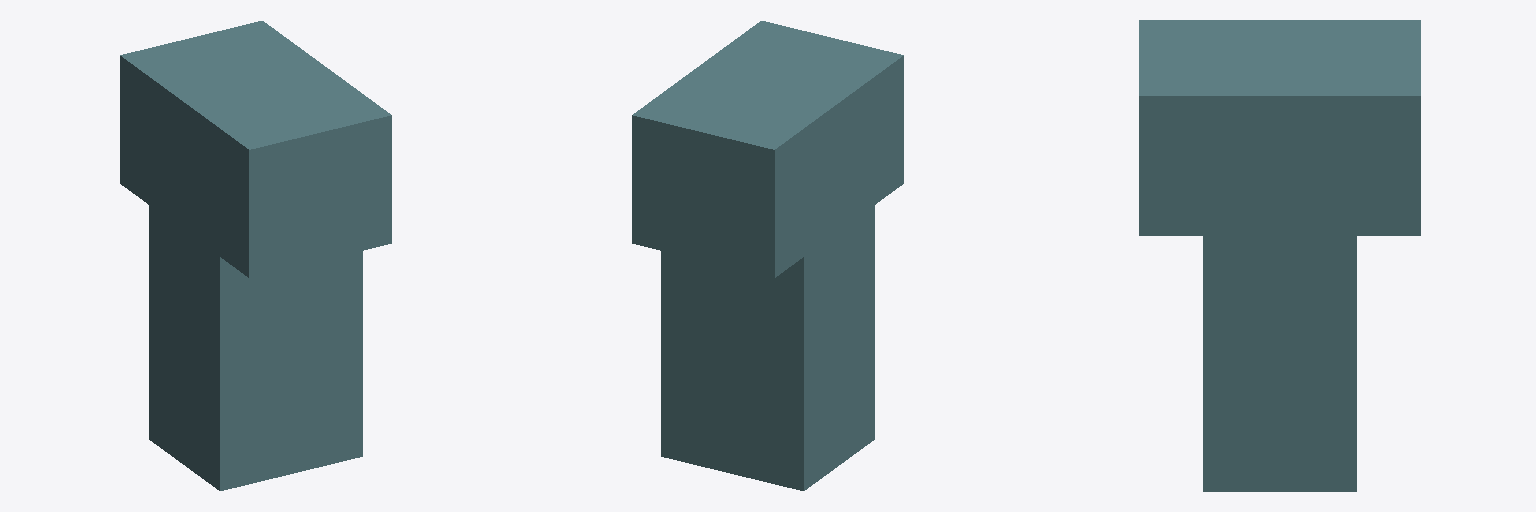
URDF robot description (box_table):
<?xml version="1.0" ?>
<robot name="box_table">
  <link name="base_link" />

    <link name="ground">
    <visual>
      <geometry>
        <mesh filename="package://mc_env_description/meshes/box_table/ground.stl" />
      </geometry>
      <material name="Ground">
        <color rgba="0.5367116332054138 0.7197052240371704 0.7483876347541809 1" />
      </material>
    </visual>

  </link>
  <joint name="ground" type="fixed">
    <parent link="base_link" />
    <child link="ground" />
    <origin rpy="0.0 0.0 0.0" xyz="0.0 0.0 -0.012499997392296791" />
  </joint>

  <link name="box_table">
    <visual>
      <geometry>
        <mesh filename="package://mc_env_description/meshes/box_table/box_table.stl" />
      </geometry>
      <material name="Ground.001">
        <color rgba="0.4169919788837433 0.5591667890548706 0.5814512372016907 1" />
      </material>
    </visual>

  </link>
  <joint name="box_table" type="fixed">
    <parent link="base_link" />
    <child link="box_table" />
    <origin rpy="0.0 0.0 0.0" xyz="0.0 0.0 0.48774999380111694" />
  </joint>

</robot>

--- Facts derived from the render (not from the file) ---
3 views of the same robot in one strip: view 1: azimuth 30°, elevation 25°; view 2: azimuth 150°, elevation 25°; view 3: azimuth 270°, elevation 25° (orthographic).
Model box_table with 3 links and 2 joints (2 fixed), rooted at base_link, posed all joints at 0.
Visible links, largest first — view 1: box_table; view 2: box_table; view 3: box_table.
Boxes of the visible links, box(x1,y1,x2,y2) form: box_table: box(120, 21, 391, 490); box_table: box(632, 21, 903, 490); box_table: box(1139, 20, 1420, 491).
Size in the robot's own frame: 0.35 by 0.55 by 0.851 metres.
Meshes: 2 distinct files referenced, 1 mesh visuals loaded (1 binary STL); not drawn: 1 (reference not matched to a file when rendering).